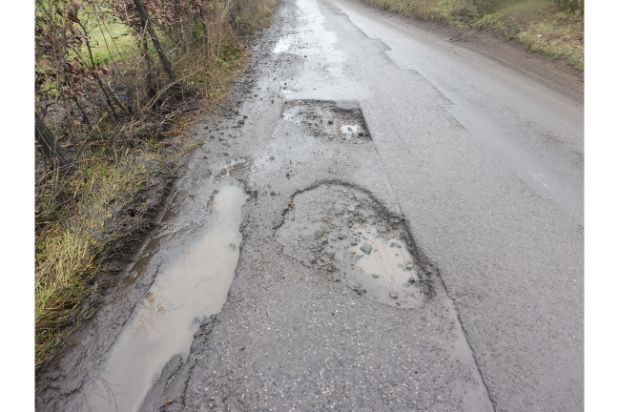pothole: (268, 175, 437, 312), (279, 95, 373, 145)
